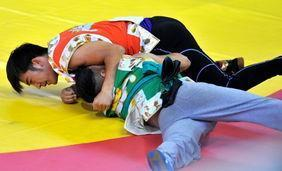Fall-Detected: (3, 10, 274, 103)
